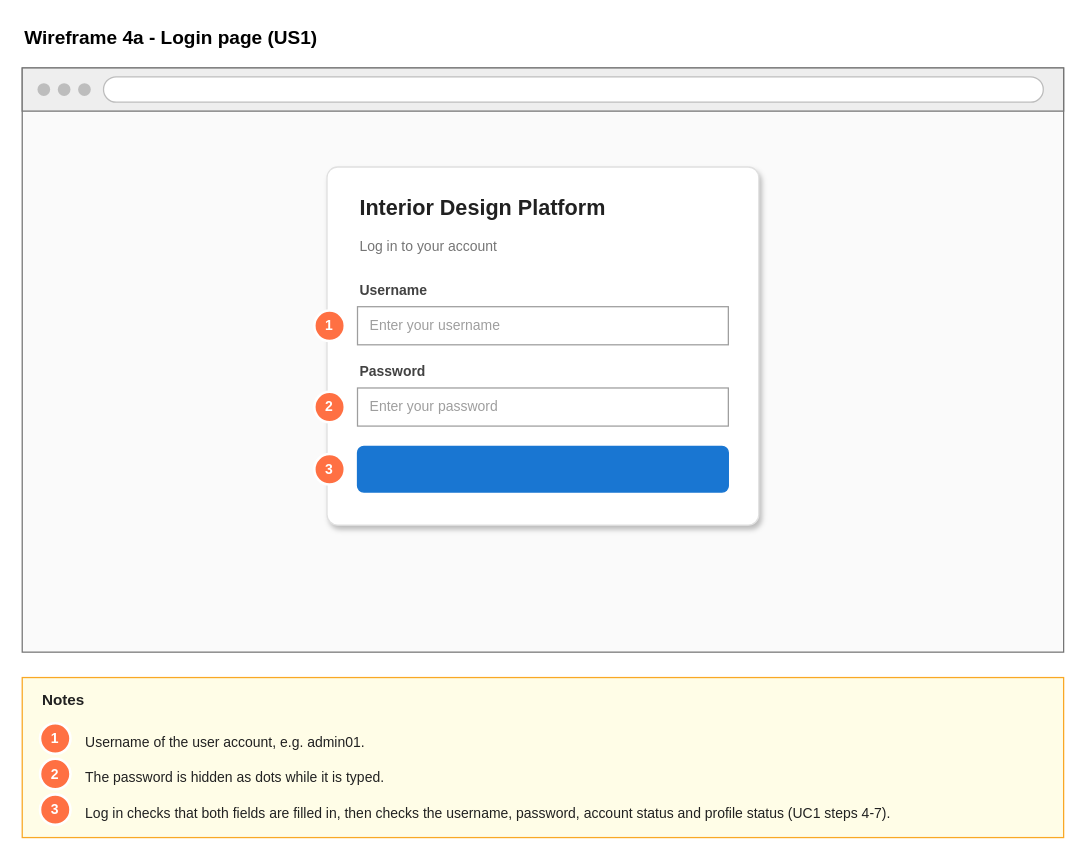
Image size: 1086x860. Some labels were removed from this diagram. The shapes that lost their labels are listed below. From the top down, each one's centre as x and y in pixels, then its label:
At pixel 572 89: "localhost:8080/login".
At pixel 542 468: "Log in".
